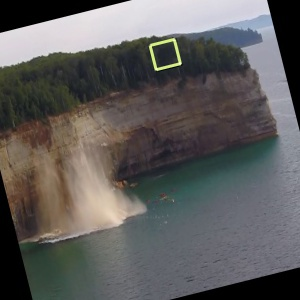square: (146, 36, 183, 72)
